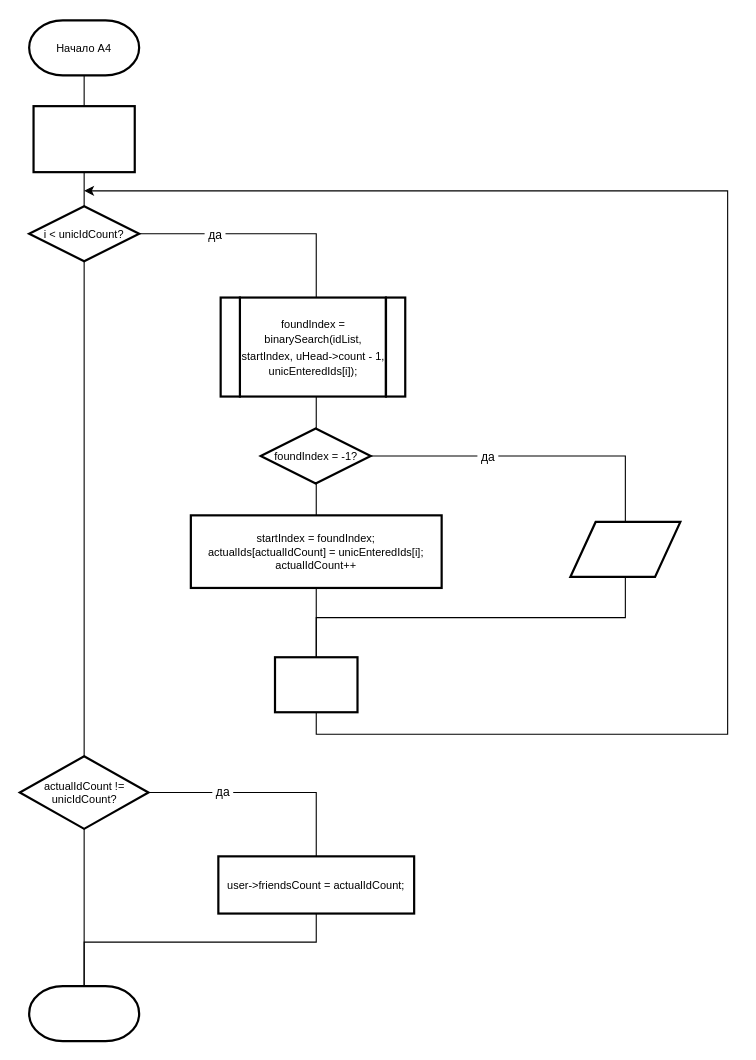
This 756x1060 diagram has some shape labels left out. Here are the shapes that lost their labels. From the top down, the box of each, then its label:
(32, 105, 135, 173): startIndex = 0; actualIdCount = 0; i = 0
(569, 520, 681, 578): такого id нет в списке!
(273, 656, 358, 713): i++
(28, 985, 140, 1042): Конец А4
